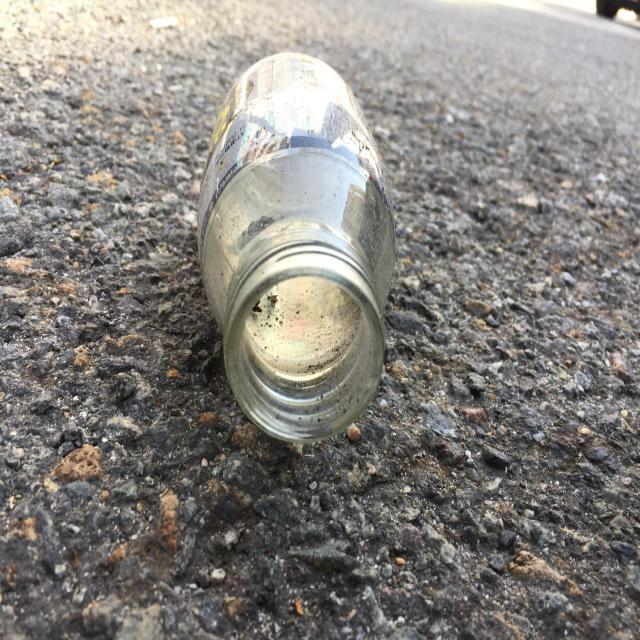glass: (198, 53, 395, 443)
